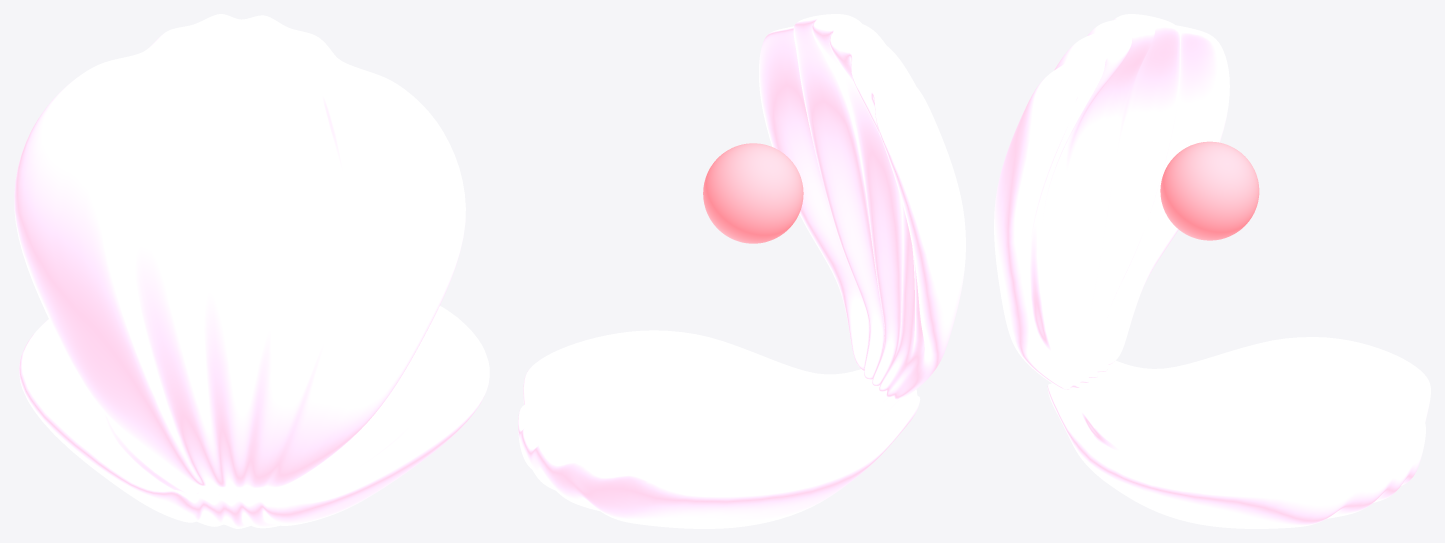
The model's file is clamshell.gltf.
3 renders of one model, left to right at view 1: azimuth 30°, elevation 25°; view 2: azimuth 150°, elevation 25°; view 3: azimuth 270°, elevation 25°, orthographic. The views are drawn at different scales.
Parts seen in each view (by area): view 1: Top Shell, Bottom Shell; view 2: Bottom Shell, Top Shell, Pearl; view 3: Top Shell, Bottom Shell, Pearl.
Boxes of the visible parts, x1=… form: Top Shell: x1=14, y1=14, x2=465, y2=488; Bottom Shell: x1=19, y1=306, x2=489, y2=528; Bottom Shell: x1=518, y1=330, x2=920, y2=528; Top Shell: x1=759, y1=14, x2=965, y2=400; Pearl: x1=703, y1=143, x2=803, y2=243; Top Shell: x1=994, y1=14, x2=1229, y2=390; Bottom Shell: x1=1047, y1=337, x2=1430, y2=528; Pearl: x1=1160, y1=141, x2=1259, y2=240.
Size of the model in its own units: 1.08 by 1.21 by 1.08.
